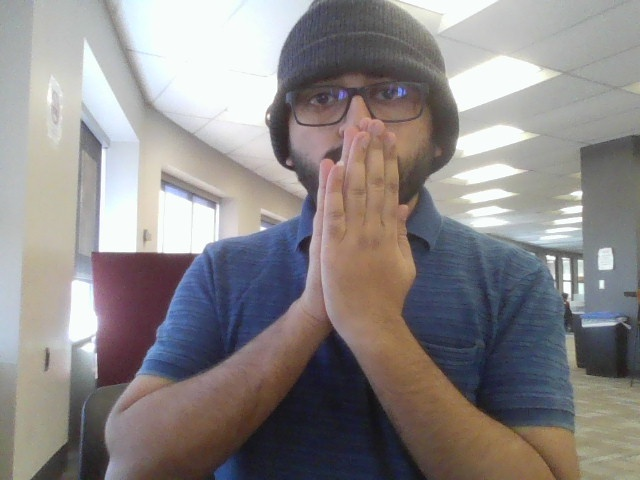start: (305, 114, 422, 344)
